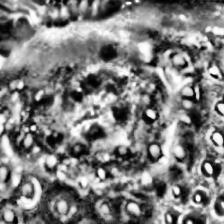Anthracnose Fruit Rot: (7, 16, 200, 194)
